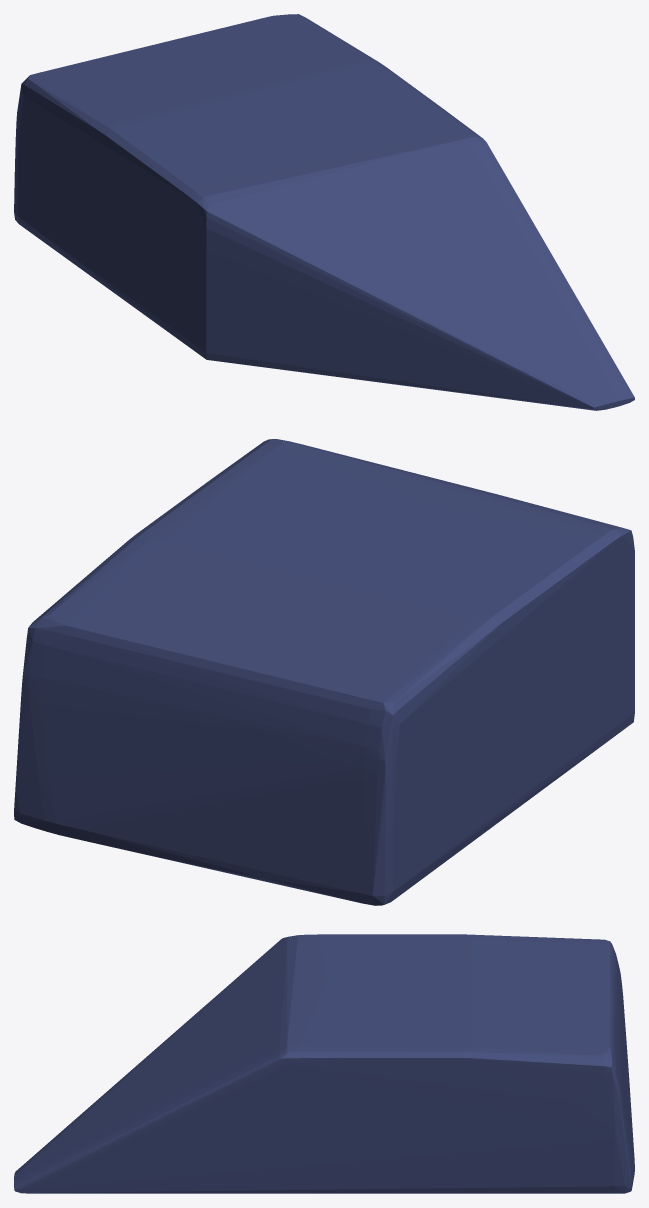
File: right-hip-pitch-0_part_16.obj
3 views of the same model, one above another, from view 1: azimuth 30°, elevation 25°; view 2: azimuth 150°, elevation 25°; view 3: azimuth 270°, elevation 25° (orthographic). The views are drawn at different scales.
Size of the model in its own units: 0.0665 by 0.0359 by 0.1408.
